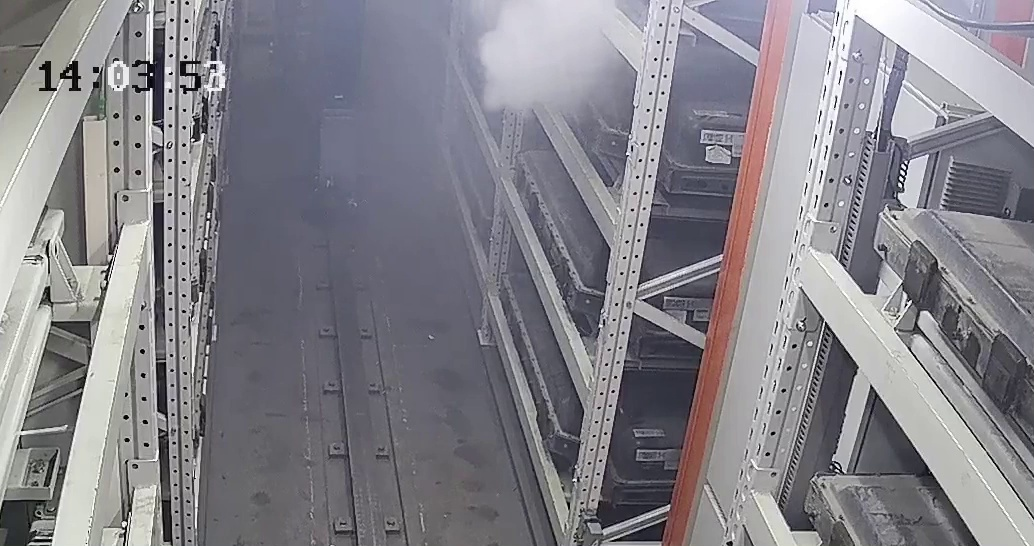smoke: (472, 15, 607, 117)
